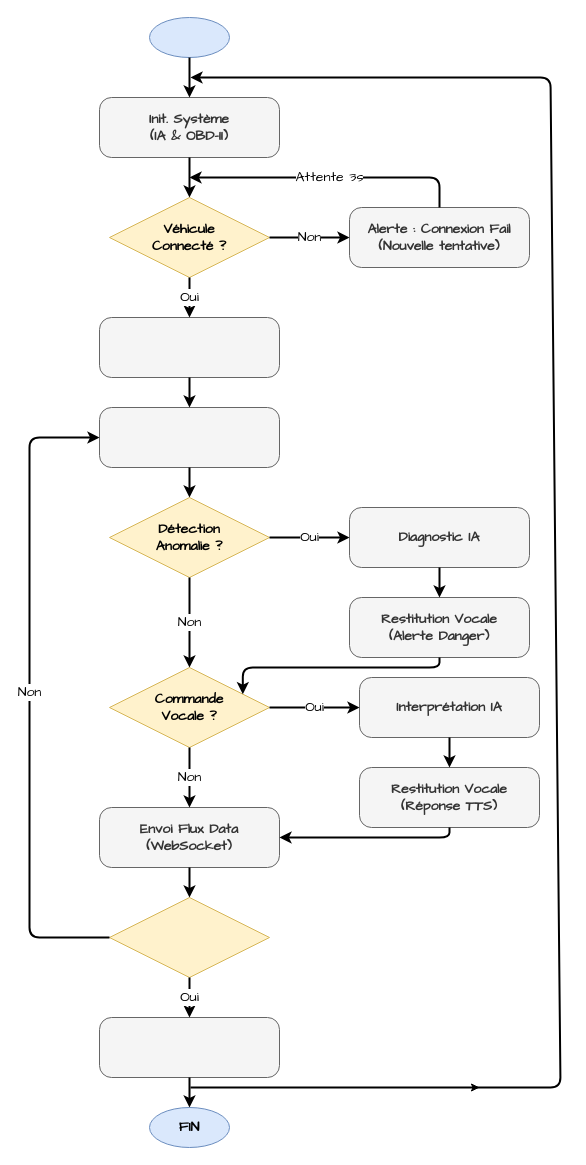
Image size: 586x1165. Some labels were removed from this diagram. Here are the shapes that lost their labels. From the top down, the centre of each, then its label:
the point at 189,37: DÉBUT
the point at 189,347: Connexion Réussie (WiFi ON)
the point at 189,437: Monitoring Temps Réel (Lecture Capteurs)
the point at 189,937: Moteur Coupé ?
the point at 189,1047: Générer Rapport Final
